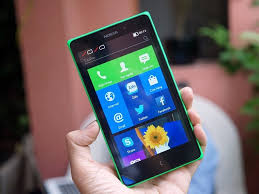nokia: (63, 8, 204, 189)
